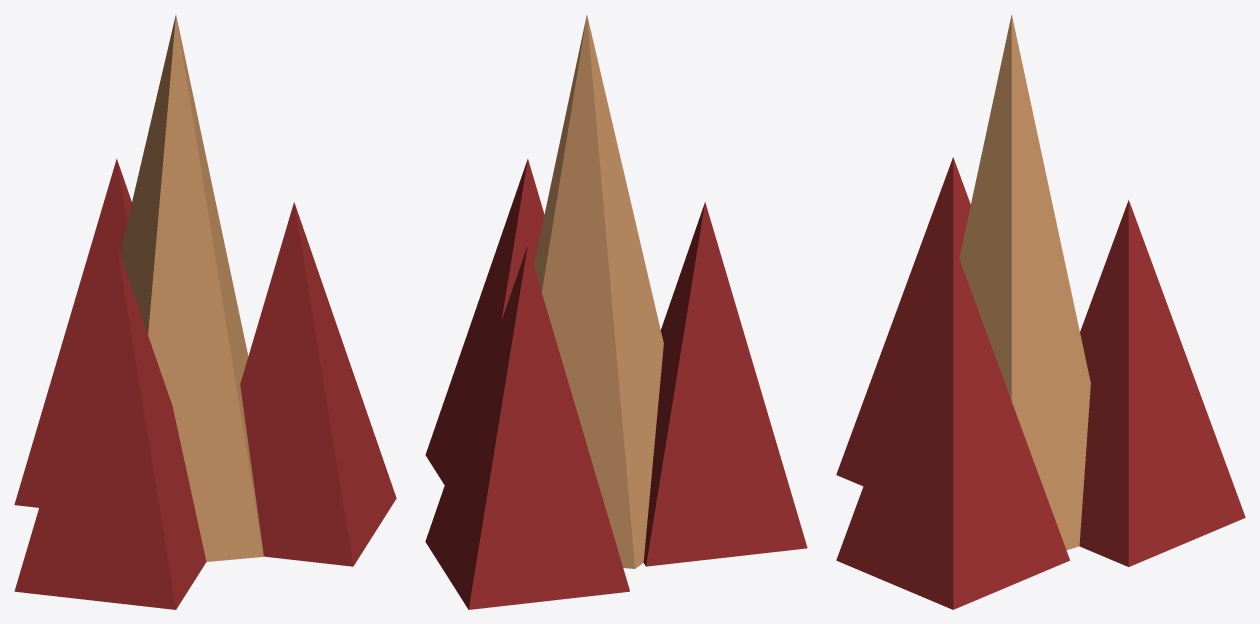
Rendered from flame.glb.
The picture shows the model from 3 angles, left to right: view 1: azimuth 30°, elevation 25°; view 2: azimuth 150°, elevation 25°; view 3: azimuth 270°, elevation 25°; orthographic projection.
Parts seen in each view (by area): view 1: Tongue1, Core, Tongue0, Tongue2; view 2: Tongue2, Core, Tongue1, Tongue0; view 3: Tongue0, Tongue2, Core, Tongue1.
Part boxes in pixels (x1,y1,x2,y2): Tongue1: (14, 245, 206, 609); Core: (120, 15, 263, 561); Tongue0: (240, 202, 396, 566); Tongue2: (14, 158, 131, 507); Tongue2: (425, 245, 629, 609); Core: (534, 15, 663, 568); Tongue1: (643, 202, 807, 566); Tongue0: (425, 159, 544, 484); Tongue0: (836, 243, 1069, 609); Tongue2: (1079, 200, 1245, 566); Core: (959, 14, 1090, 550); Tongue1: (836, 157, 970, 486).
Bounding box in the file's own units: 0.746 × 0.95 × 0.7.
